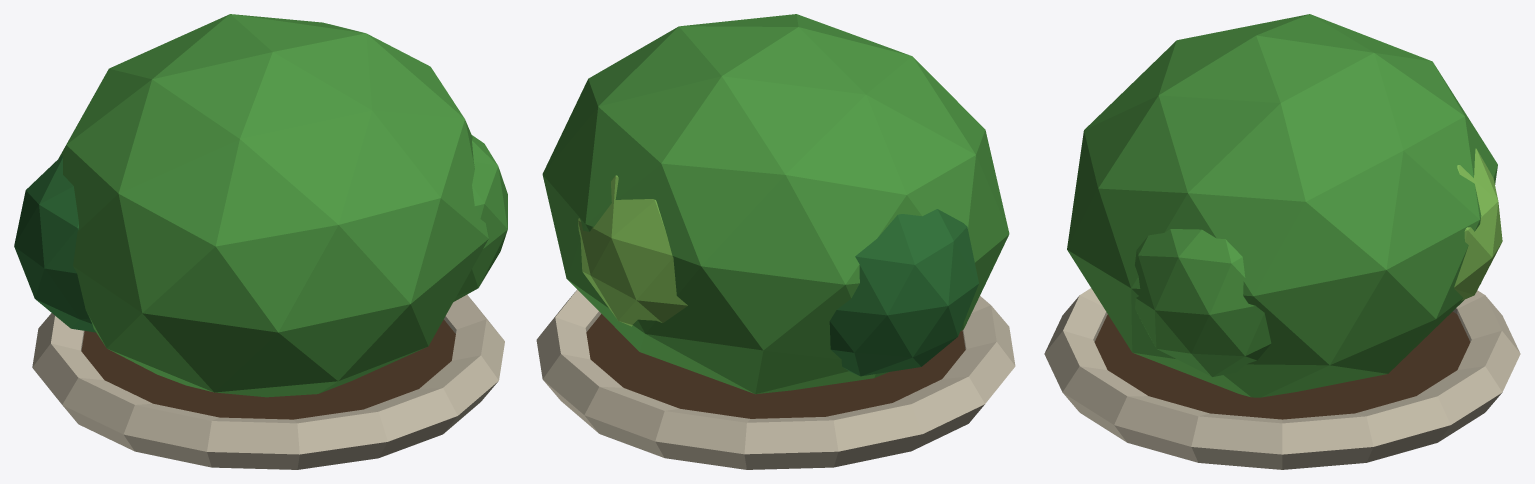
The picture shows the model from 3 angles, left to right: view 1: azimuth 30°, elevation 25°; view 2: azimuth 150°, elevation 25°; view 3: azimuth 270°, elevation 25°; orthographic projection.
Parts seen in each view (by area): view 1: WK_TownFlora_ClippedBoxwoodMound_LOD0_High; view 2: WK_TownFlora_ClippedBoxwoodMound_LOD0_High; view 3: WK_TownFlora_ClippedBoxwoodMound_LOD0_High.
Part boxes in pixels (left/top/right/bottom): WK_TownFlora_ClippedBoxwoodMound_LOD0_High: left=14, top=14, right=507, bottom=469; WK_TownFlora_ClippedBoxwoodMound_LOD0_High: left=536, top=14, right=1015, bottom=469; WK_TownFlora_ClippedBoxwoodMound_LOD0_High: left=1044, top=14, right=1520, bottom=469.
Bounding box in the file's own units: 1.97 × 1.52 × 1.94.
